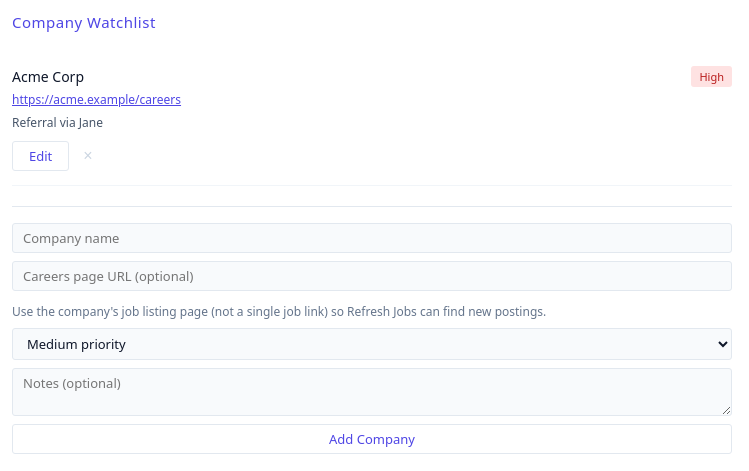
Test: CompaniesList › deletes a company when confirmed
Expected: the text "Acme Corp" is shown, [12,67,84,86]
Click the button named "delete acme corp". click: (88, 156)
box: [77,141,99,171]
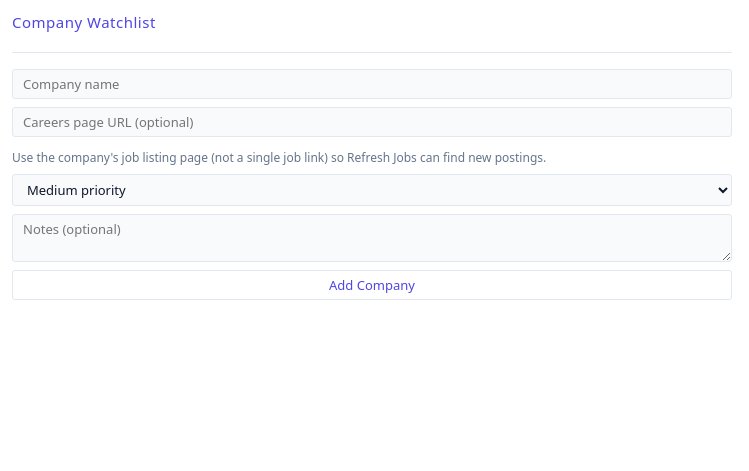
Now the text "Acme Corp" is gone
